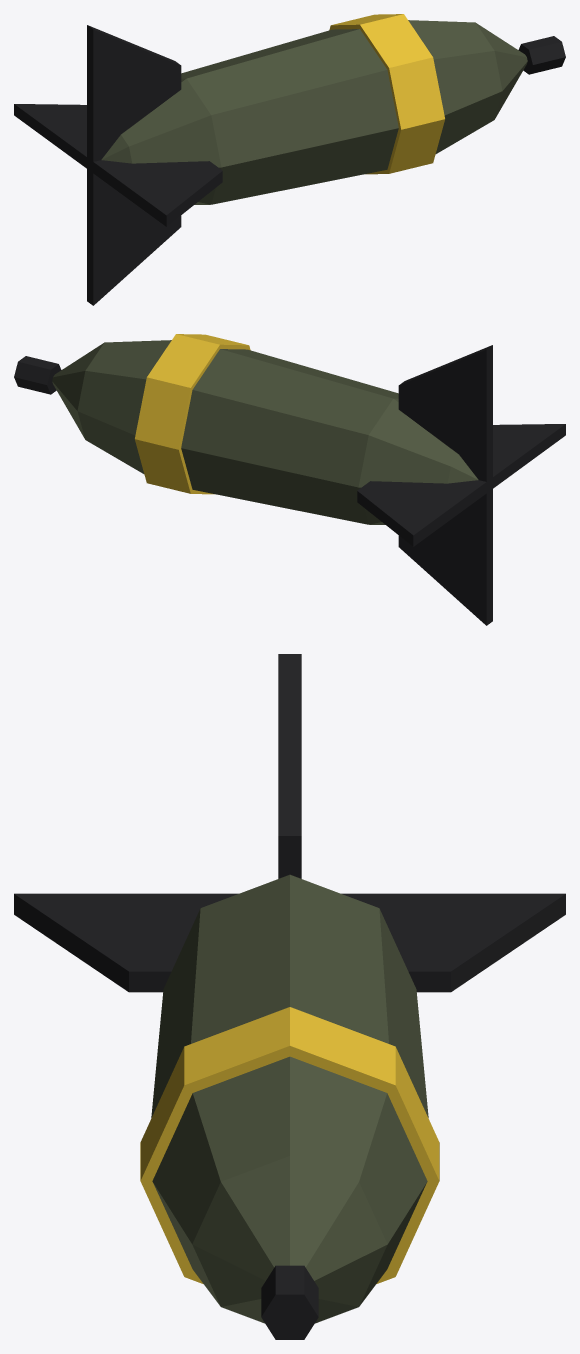
The model's file is bomb.glb.
3 views of the same model, one above another, from view 1: azimuth 30°, elevation 25°; view 2: azimuth 150°, elevation 25°; view 3: azimuth 270°, elevation 25° (orthographic). The views are drawn at different scales.
Parts seen in each view (by area): view 1: Bomb; view 2: Bomb; view 3: Bomb.
Boxes of the visible parts, <box> form: Bomb: <box>14,14,565,305</box>; Bomb: <box>14,334,565,625</box>; Bomb: <box>14,654,565,1339</box>.
Size of the model in its own units: 1.7 by 0.96 by 0.96.
